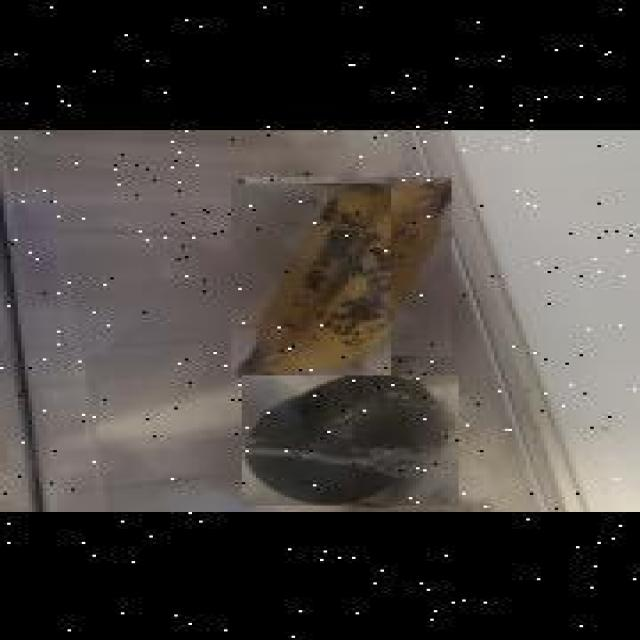avocado: (242, 374, 458, 504)
banana: (246, 175, 452, 354), (231, 182, 391, 376)
